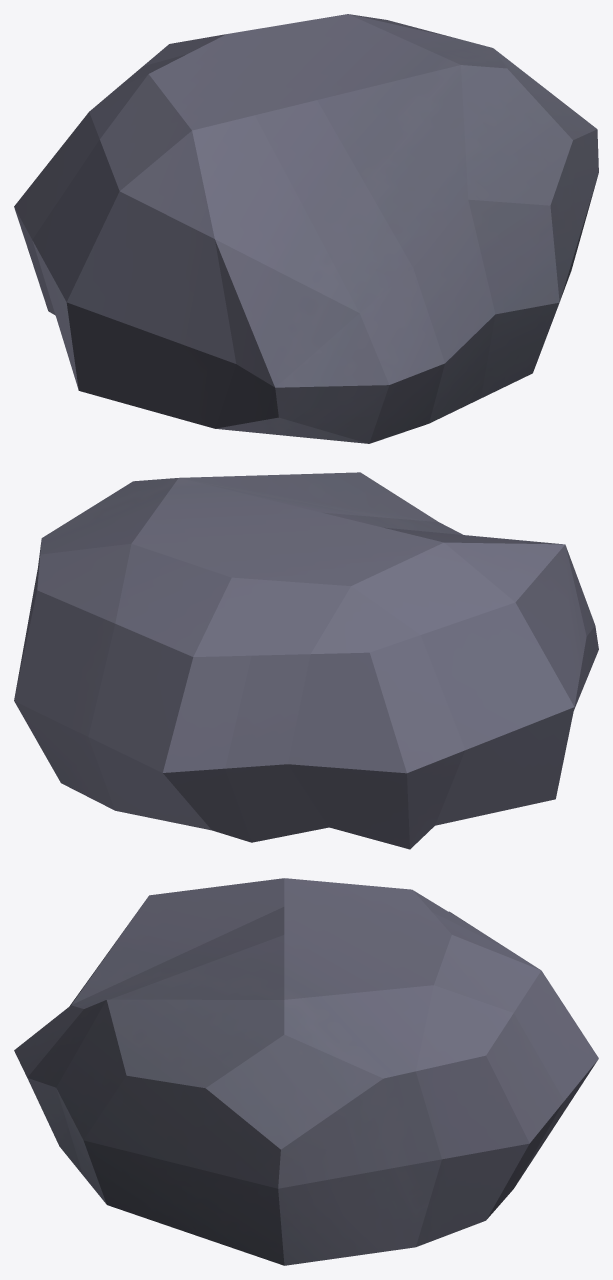
File: F_Stone_Walk_1.fbx
3 views of the same model, one above another, from view 1: azimuth 30°, elevation 25°; view 2: azimuth 150°, elevation 25°; view 3: azimuth 270°, elevation 25° (orthographic). The views are drawn at different scales.
Visible parts, largest first — view 1: F_Stone_Walk_1; view 2: F_Stone_Walk_1; view 3: F_Stone_Walk_1.
Part boxes in pixels (left/top/right/bottom): F_Stone_Walk_1: left=14, top=14, right=598, bottom=443; F_Stone_Walk_1: left=14, top=472, right=598, bottom=849; F_Stone_Walk_1: left=14, top=878, right=598, bottom=1265.
Bounding box in the file's own units: 1.68 × 0.6848 × 1.64.
Materials: 1 (1 with a texture image).
